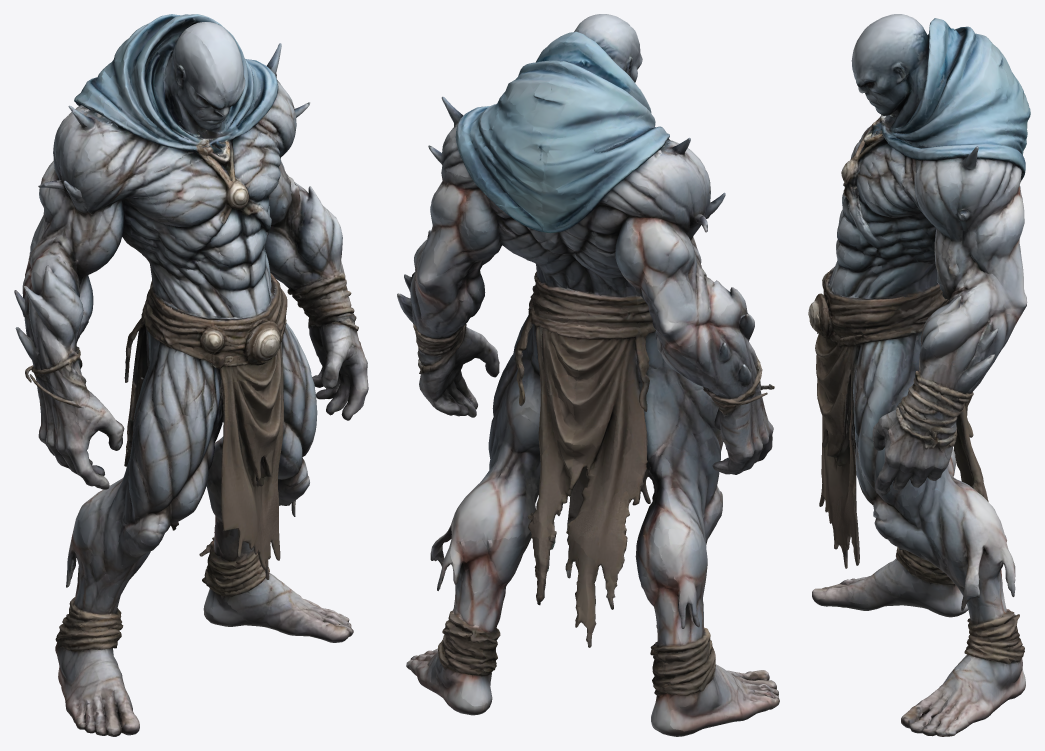
Rendered from cronus__ancient-stone-titan.glb.
3 views of the same model, side by side, from view 1: azimuth 30°, elevation 25°; view 2: azimuth 150°, elevation 25°; view 3: azimuth 270°, elevation 25° (orthographic). The views are drawn at different scales.
Size of the model in its own units: 1.02 by 1.9 by 0.596.
1 material, 1 textured.
